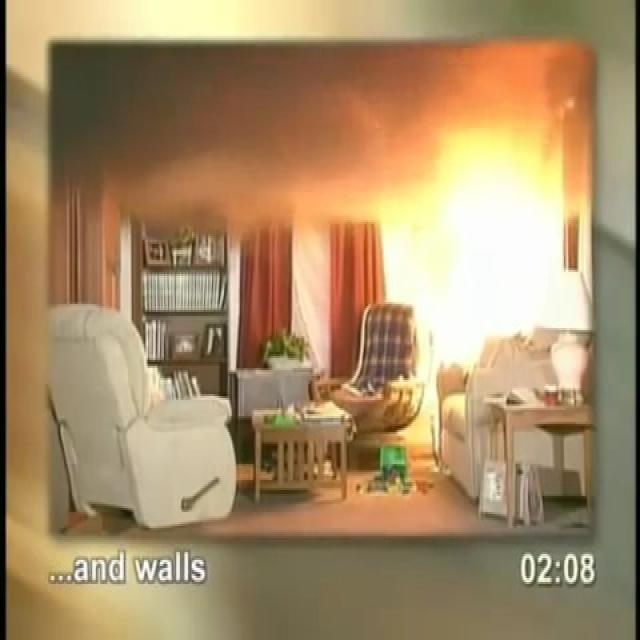Fire: (313, 32, 589, 444)
